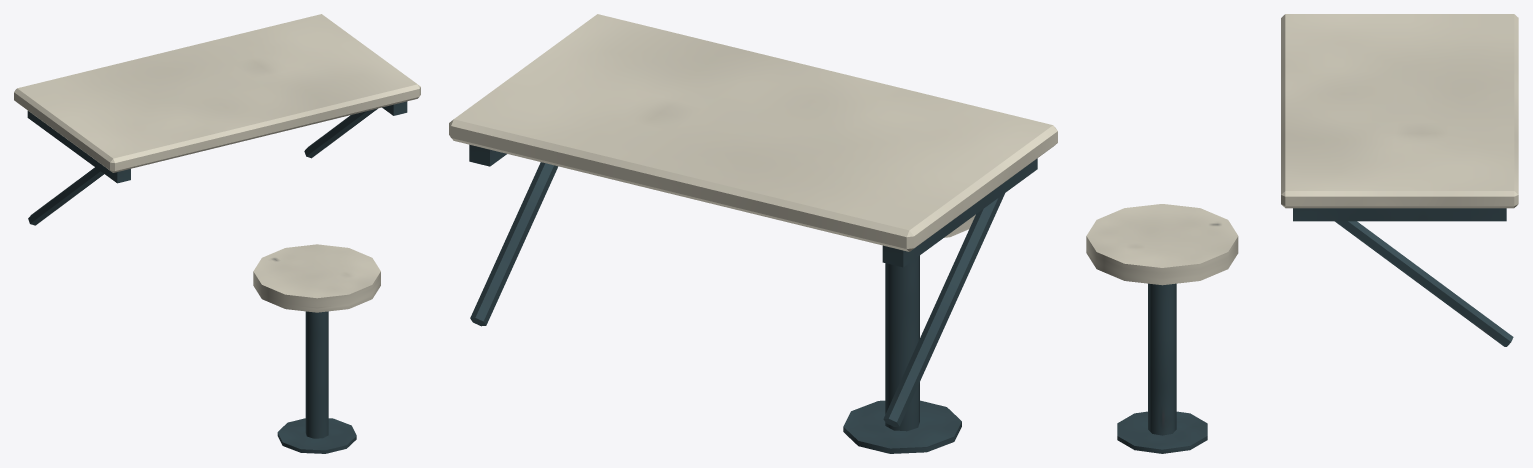
Rendered from desk_cell.fbx.
The picture shows the model from 3 angles, left to right: view 1: azimuth 30°, elevation 25°; view 2: azimuth 150°, elevation 25°; view 3: azimuth 270°, elevation 25°; orthographic projection. The views are drawn at different scales.
Visible parts, largest first — view 1: desk_cell; view 2: desk_cell; view 3: desk_cell.
Boxes of the visible parts, bbox=[...] form: desk_cell: bbox=[14, 14, 420, 453]; desk_cell: bbox=[449, 14, 1057, 453]; desk_cell: bbox=[1086, 14, 1518, 453].
Size of the model in its own units: 0.9 by 0.77 by 0.91.
Materials: 1 (1 with a texture image).
